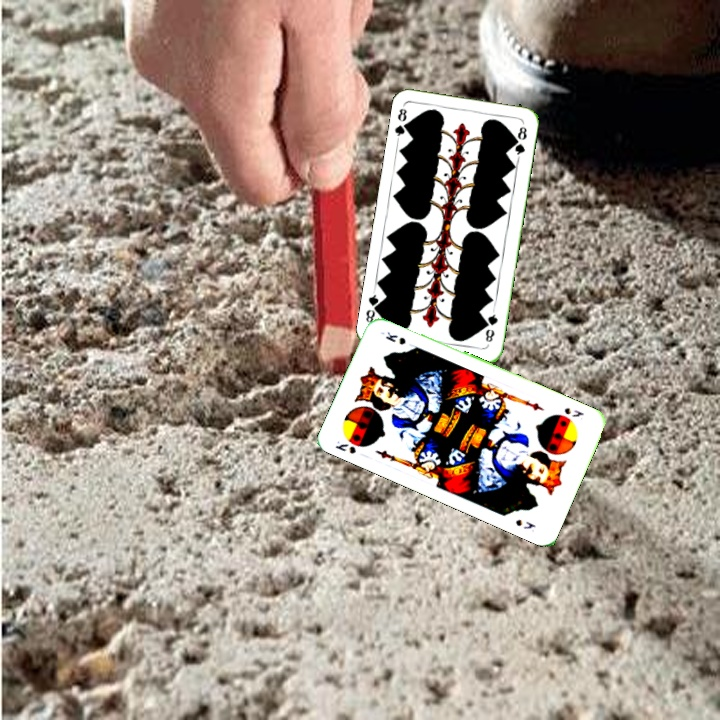G8: (391, 104, 412, 141), (481, 306, 500, 345)
SK: (331, 437, 359, 457), (560, 403, 586, 420)
